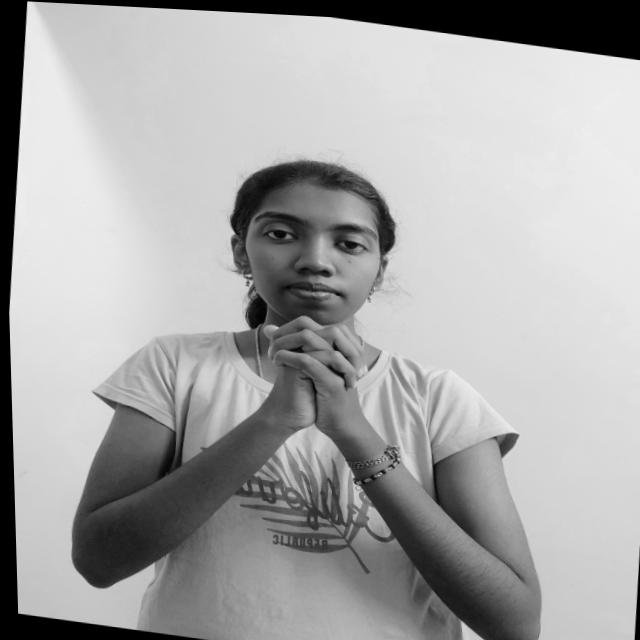Sorry: (242, 300, 392, 460)
